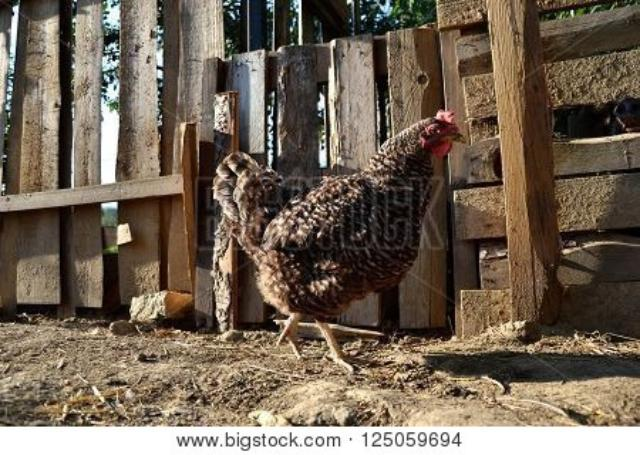Chicken: (215, 108, 468, 373)
